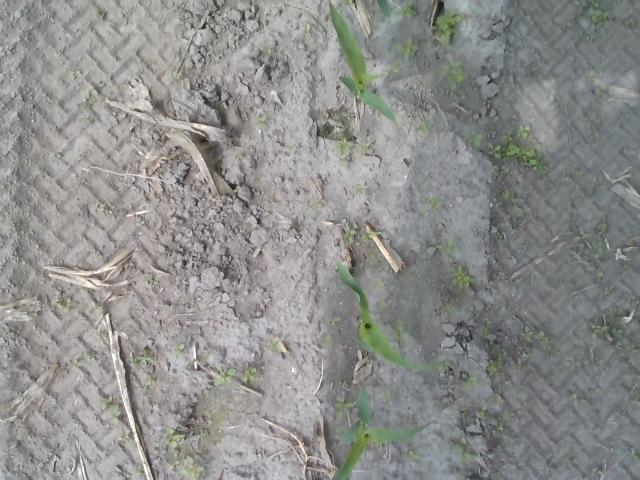Maize: (334, 259, 455, 372), (320, 0, 399, 124), (330, 387, 436, 474)
Weeds: (501, 138, 544, 174), (520, 326, 560, 361), (574, 221, 608, 262), (162, 454, 204, 480), (433, 10, 462, 44), (439, 60, 465, 88), (586, 0, 610, 28), (584, 68, 606, 98), (451, 441, 479, 464), (447, 264, 473, 288), (590, 322, 625, 339), (165, 426, 185, 450), (420, 197, 445, 216), (336, 138, 352, 166), (129, 347, 155, 364), (214, 367, 236, 386), (344, 228, 370, 244), (392, 319, 409, 343), (496, 409, 512, 432), (398, 1, 418, 18), (400, 38, 418, 56), (334, 401, 353, 417), (500, 189, 516, 208), (140, 374, 160, 388), (242, 366, 256, 385), (387, 64, 403, 80), (440, 240, 456, 256), (466, 130, 481, 147), (488, 142, 502, 160), (486, 360, 504, 374), (464, 376, 478, 390), (268, 340, 284, 352), (403, 448, 419, 460), (350, 184, 368, 194), (414, 122, 429, 134), (110, 406, 120, 424), (254, 115, 266, 128), (56, 303, 70, 314), (518, 126, 530, 138), (441, 301, 454, 312), (326, 316, 339, 327), (305, 199, 320, 208), (440, 362, 455, 371), (382, 390, 393, 402), (372, 278, 382, 291), (174, 344, 183, 358), (496, 394, 506, 406), (478, 410, 491, 419), (629, 344, 640, 354), (98, 206, 109, 216), (378, 302, 387, 314), (357, 144, 369, 152), (67, 70, 75, 80), (263, 47, 273, 55)
